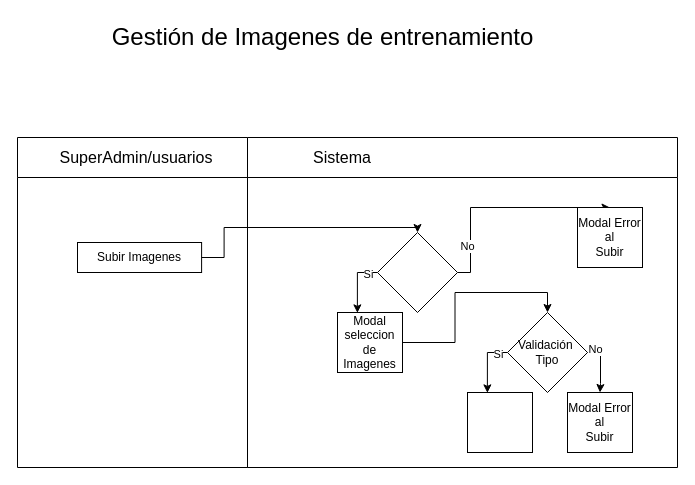
This 695x485 diagram has some shape labels left out. The shapes that lost their labels are listed below. From the top down, each one's centre as x and y in pixels, then its label:
point 417,272: validacion Credenciales google
point 499,422: Modal Imagenes Subidos
